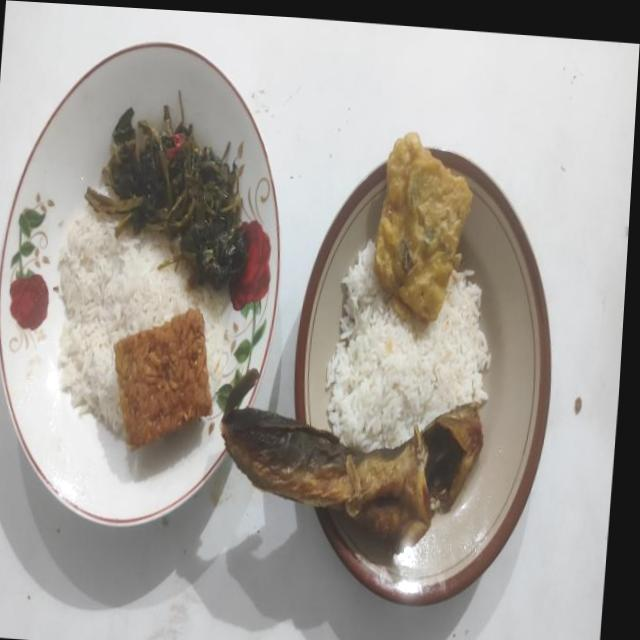nasi_putih: (58, 207, 232, 436), (326, 239, 491, 452)
tempe_goreng: (114, 309, 212, 448)
tumis_kangkung: (85, 105, 248, 289)
